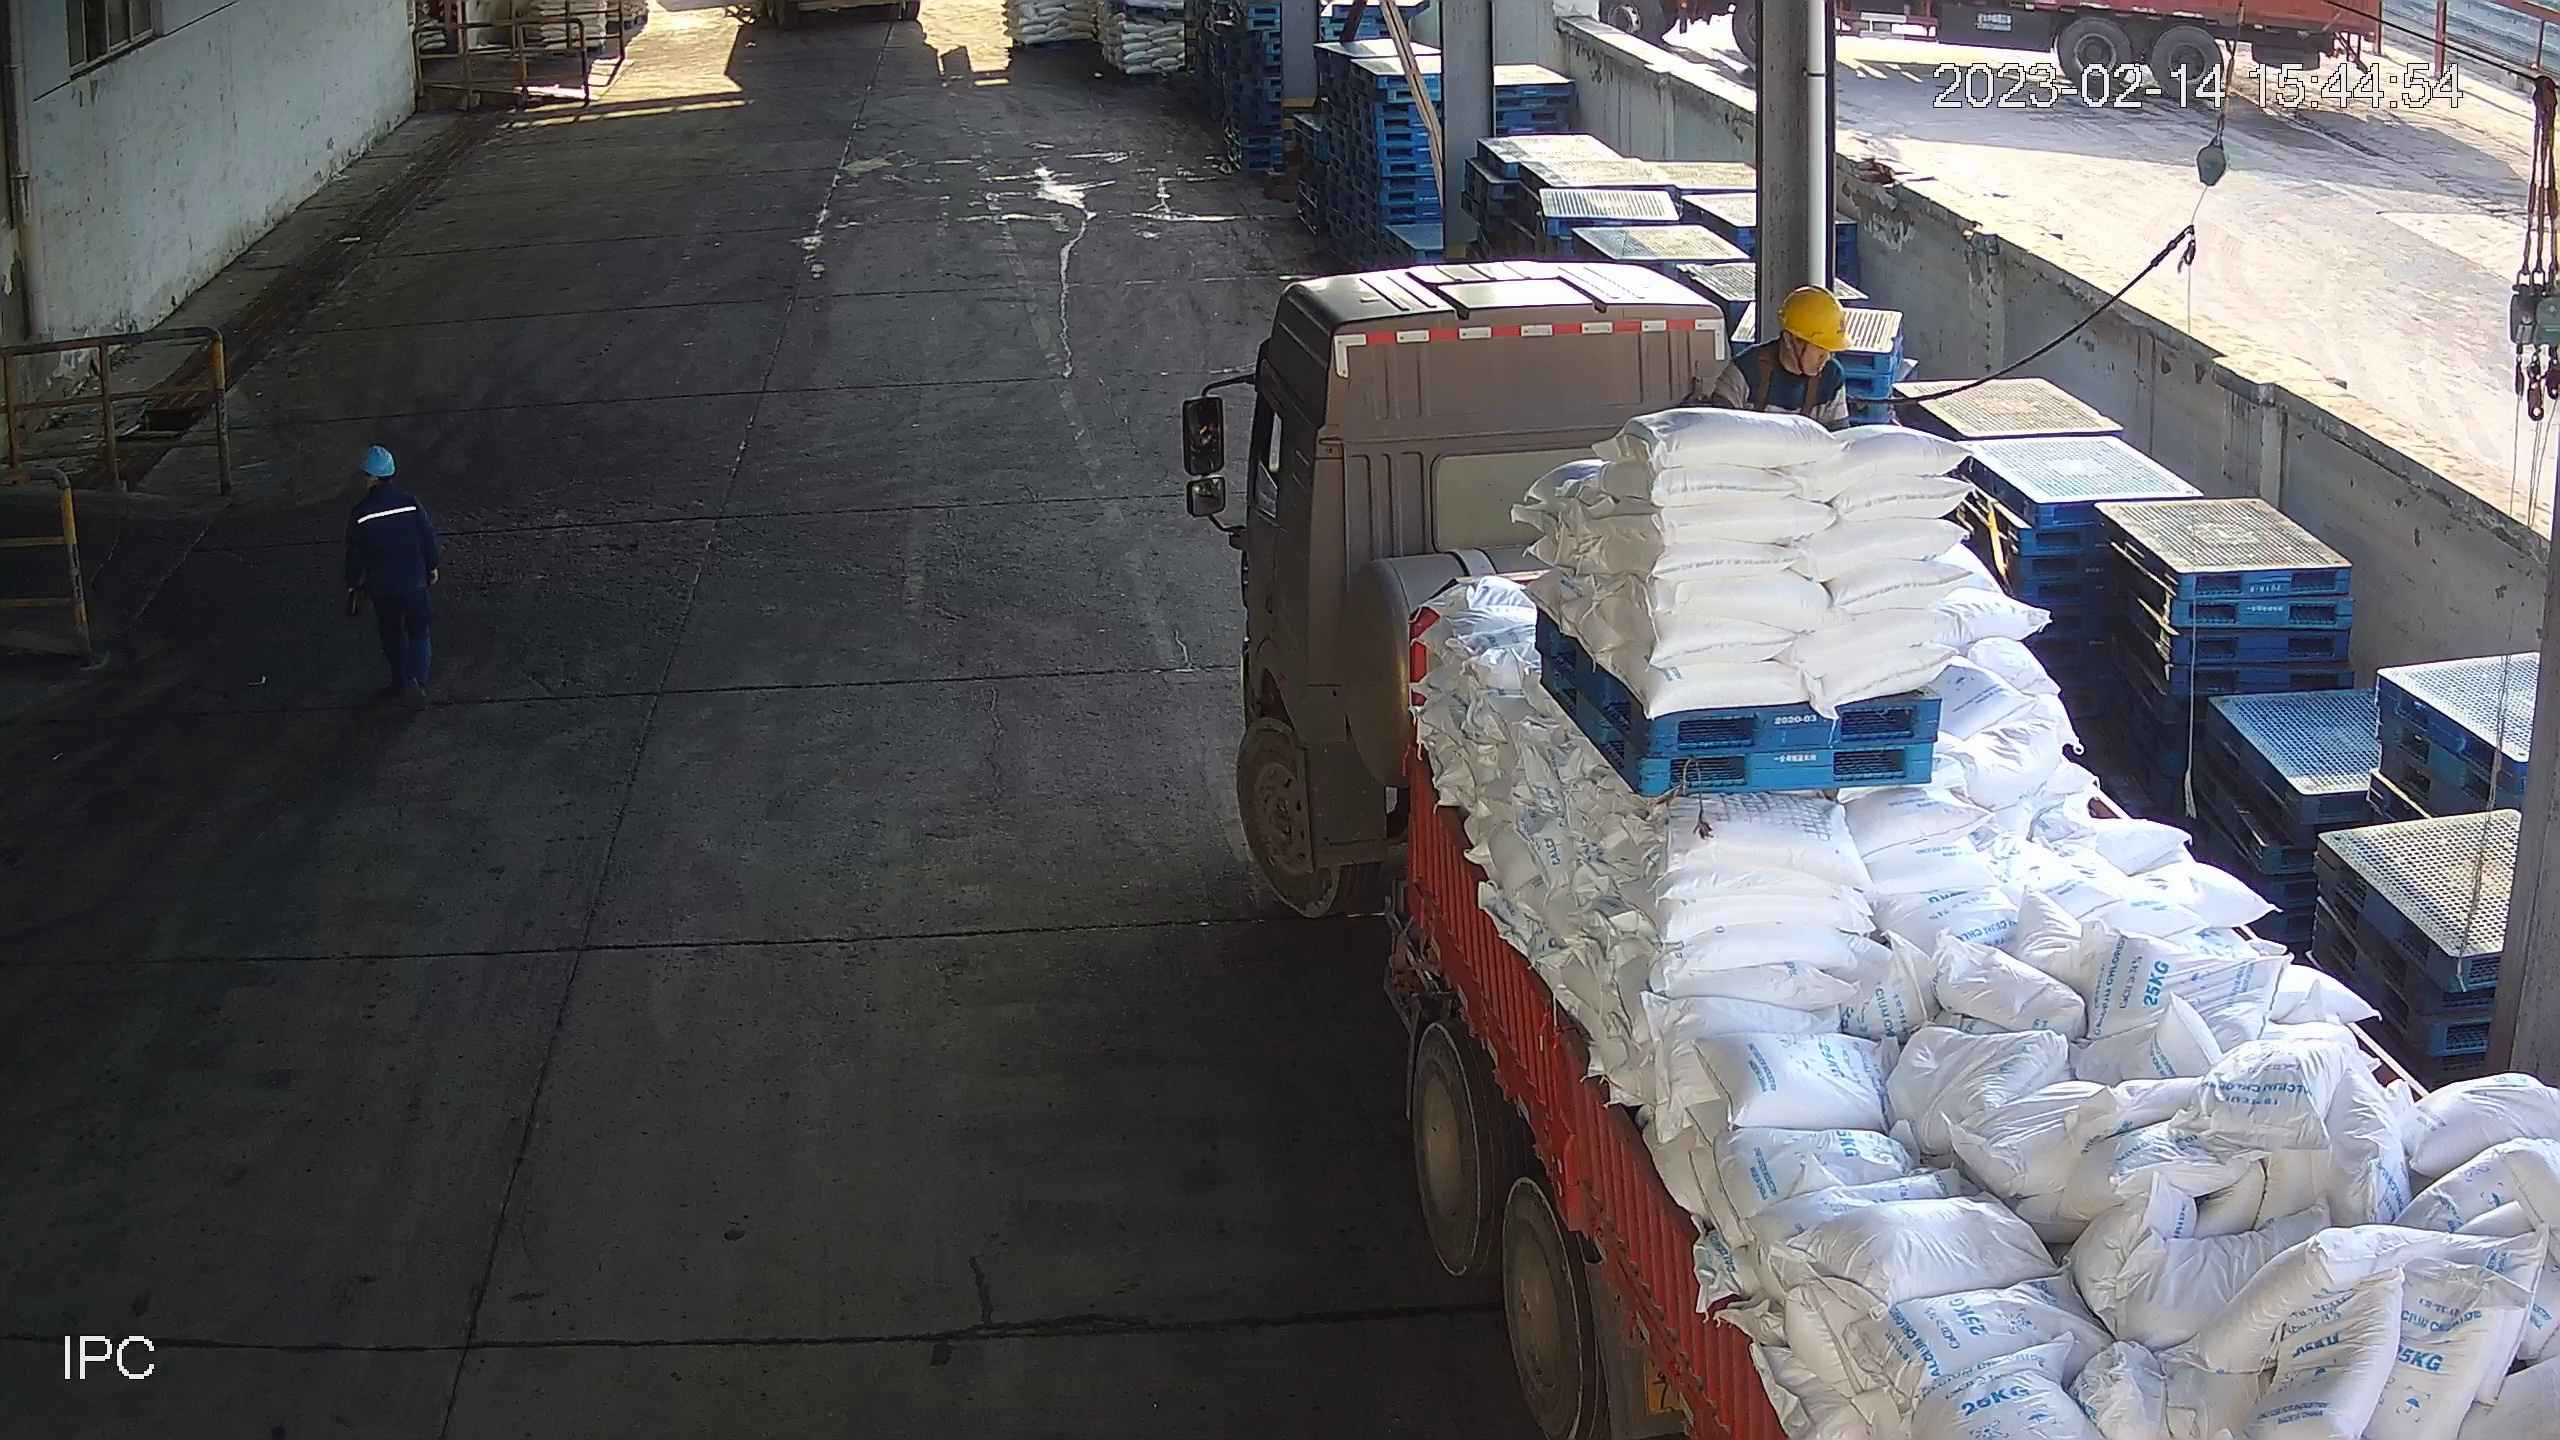belt: (1750, 369, 1829, 420)
head: (1735, 288, 1842, 386), (352, 446, 413, 518)
helmet: (1781, 285, 1849, 350), (351, 443, 393, 474)
people: (344, 444, 446, 709)
truck: (1183, 264, 2560, 1440)
